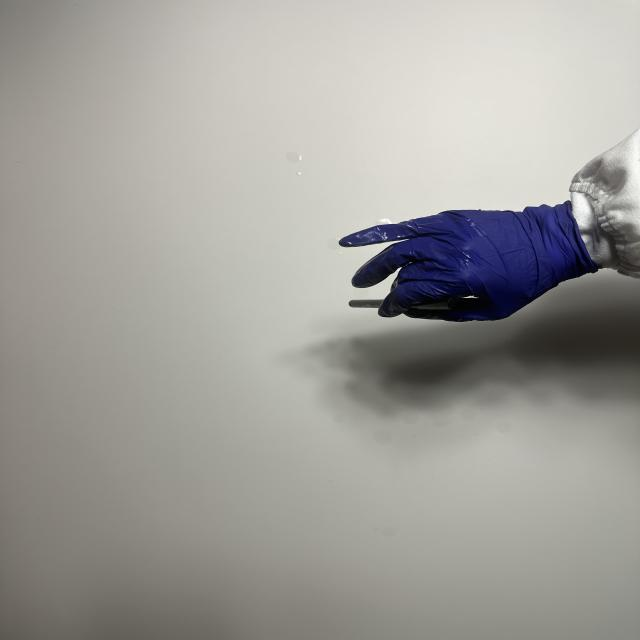gloves_contaminated: (340, 201, 598, 321)
